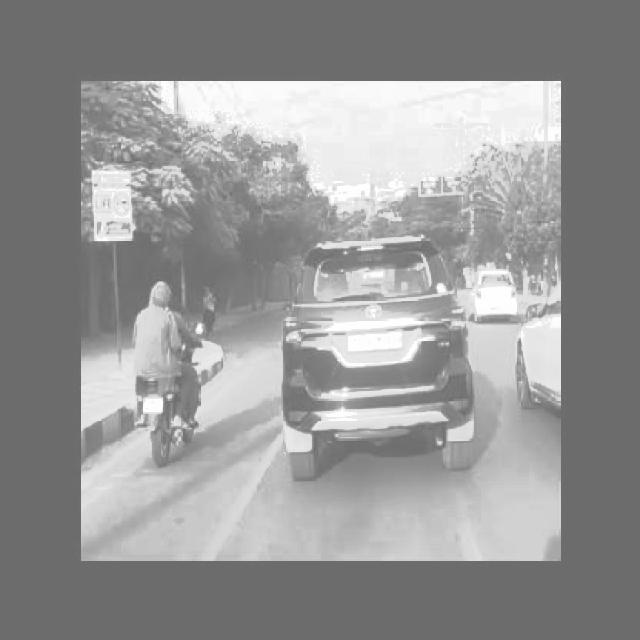Car: (269, 231, 474, 485), (517, 288, 565, 432), (471, 264, 520, 324)
